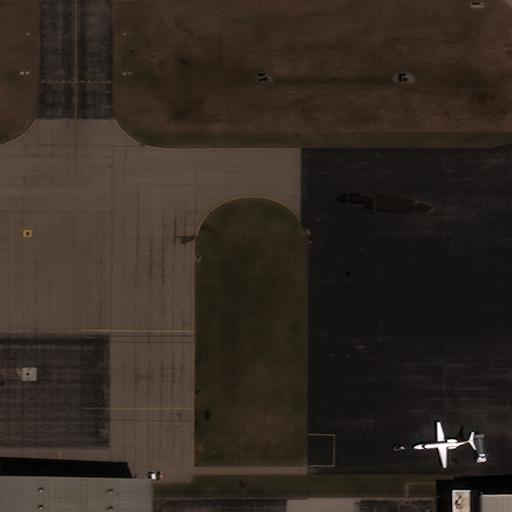Medium Civil Transport: (413, 422, 475, 468)
